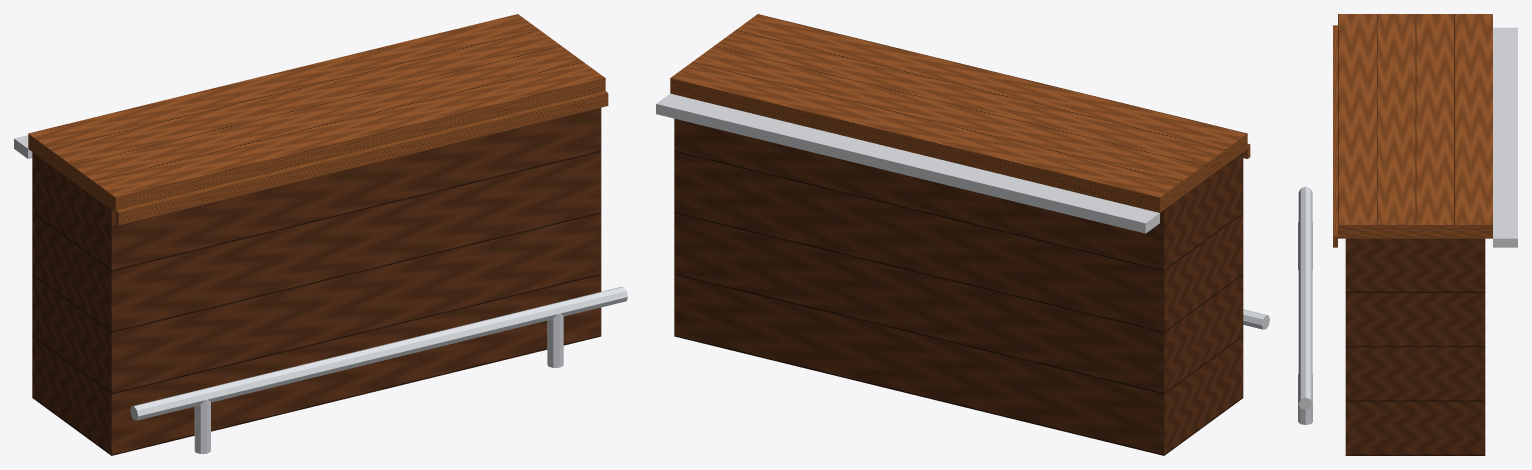
The model's file is ramen_counter_module.glb.
3 renders of one model, left to right at view 1: azimuth 30°, elevation 25°; view 2: azimuth 150°, elevation 25°; view 3: azimuth 270°, elevation 25°, orthographic. The views are drawn at different scales.
Parts seen in each view (by area): view 1: ramen-counter-module-darkwood, ramen-counter-module-timber, ramen-counter-module-steel; view 2: ramen-counter-module-darkwood, ramen-counter-module-timber, ramen-counter-module-steel; view 3: ramen-counter-module-timber, ramen-counter-module-darkwood, ramen-counter-module-steel.
Part boxes in pixels (<box>): ramen-counter-module-darkwood: <box>32,107,601,455</box>; ramen-counter-module-timber: <box>28,14,608,225</box>; ramen-counter-module-steel: <box>14,135,627,453</box>; ramen-counter-module-darkwood: <box>674,118,1243,455</box>; ramen-counter-module-timber: <box>670,14,1250,212</box>; ramen-counter-module-steel: <box>656,93,1269,329</box>; ramen-counter-module-timber: <box>1333,14,1492,247</box>; ramen-counter-module-darkwood: <box>1345,238,1485,455</box>; ramen-counter-module-steel: <box>1298,27,1517,424</box>.
Bounding box in the file's own units: 2 × 1.02 × 0.88.
Materials: 4 (2 with a texture image).
